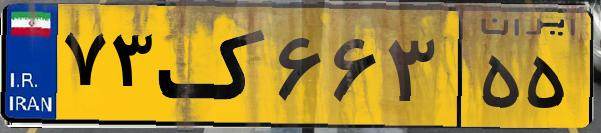3: (385, 28, 445, 110), (110, 28, 158, 98)
5: (475, 38, 525, 113), (525, 38, 570, 115)
6: (270, 28, 330, 110), (330, 28, 385, 110)
7: (57, 26, 110, 100)
ک: (158, 12, 270, 120)
